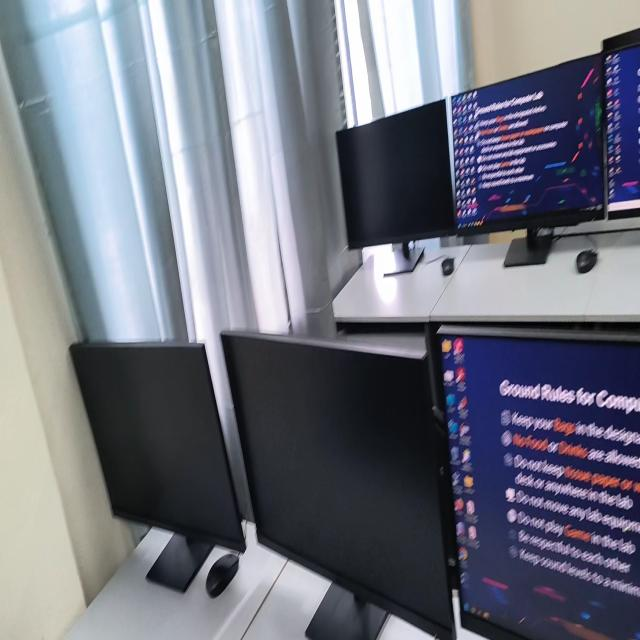Monitor: (221, 331, 456, 639), (439, 327, 640, 639), (69, 342, 245, 592), (452, 55, 604, 266), (336, 101, 455, 276), (603, 29, 640, 219)
Mouse: (206, 554, 239, 598), (576, 249, 597, 273), (442, 257, 454, 276)
